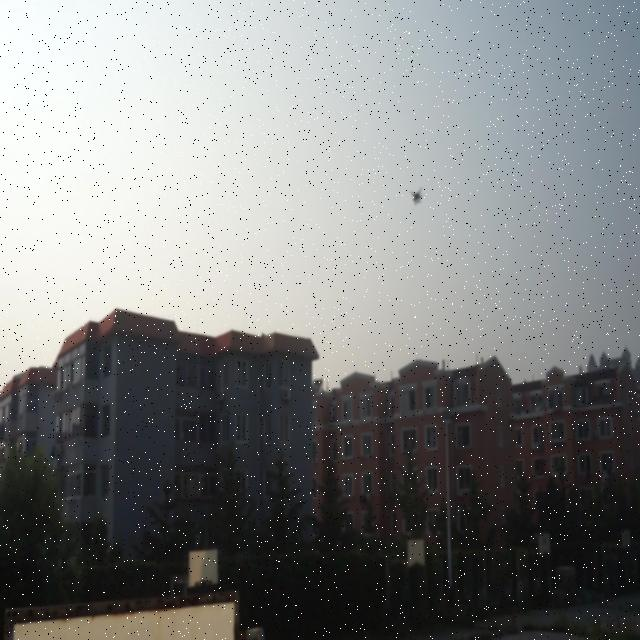UAV: (409, 186, 423, 206)
